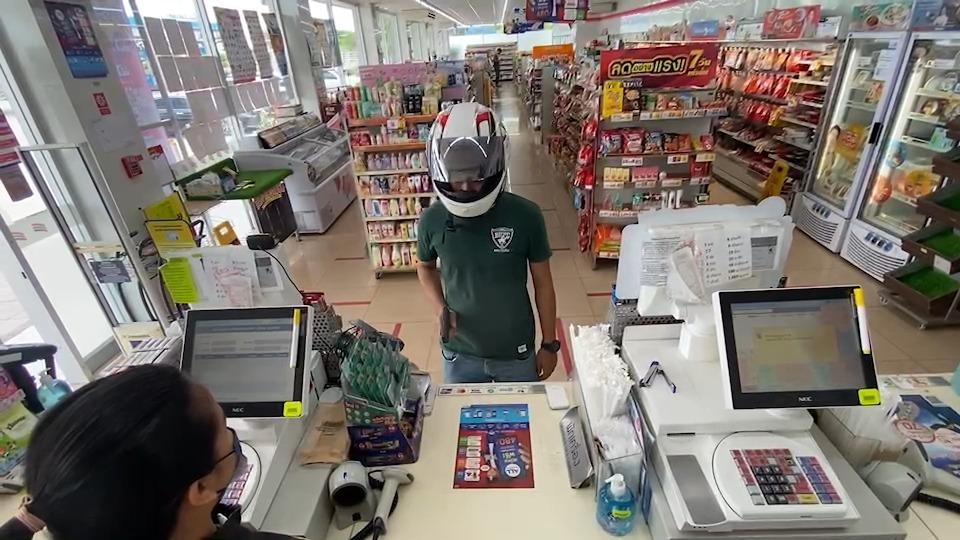criminal: (414, 100, 563, 383)
weapon: (437, 304, 456, 347)
